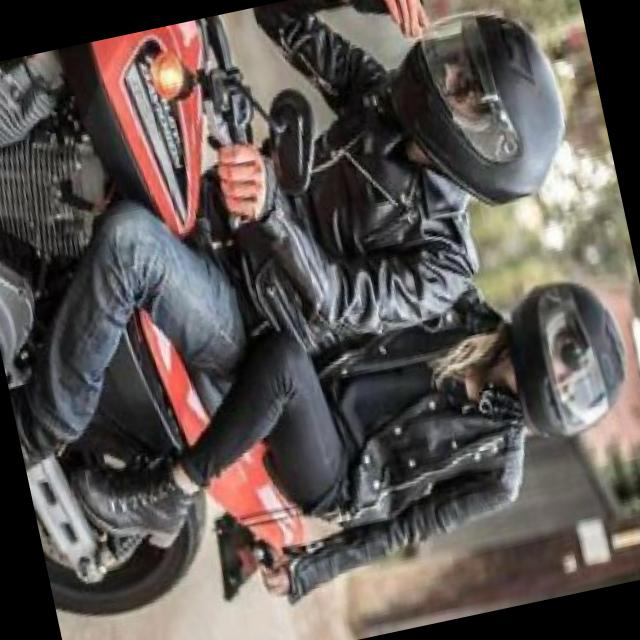With Helmet: (379, 0, 583, 229), (487, 239, 640, 453)
